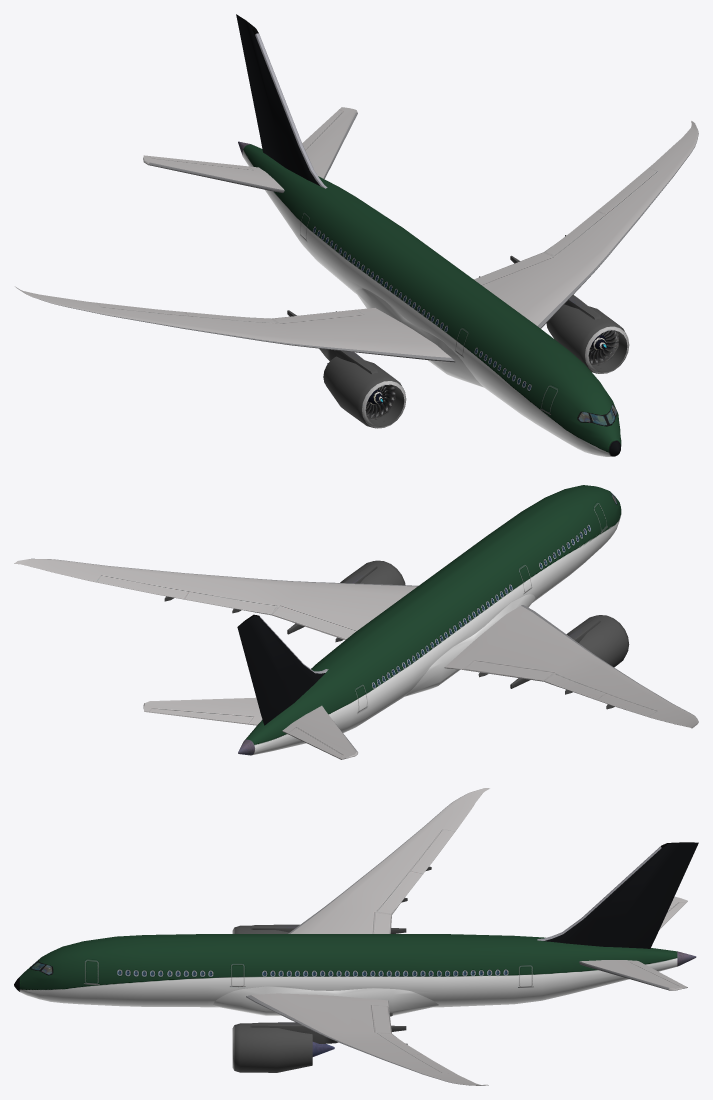
3 renders of one model, top to bottom at view 1: azimuth 30°, elevation 25°; view 2: azimuth 150°, elevation 25°; view 3: azimuth 270°, elevation 25°, orthographic. The views are drawn at different scales.
Parts seen in each view (by area): view 1: airplane_787.001; view 2: airplane_787.001; view 3: airplane_787.001.
Boxes of the visible parts, left/top/right/bottom form: airplane_787.001: left=15, top=14, right=698, bottom=456; airplane_787.001: left=14, top=485, right=698, bottom=759; airplane_787.001: left=14, top=788, right=698, bottom=1085.
Size of the model in its own units: 58.43 by 16.44 by 57.
1 material, 1 textured.
